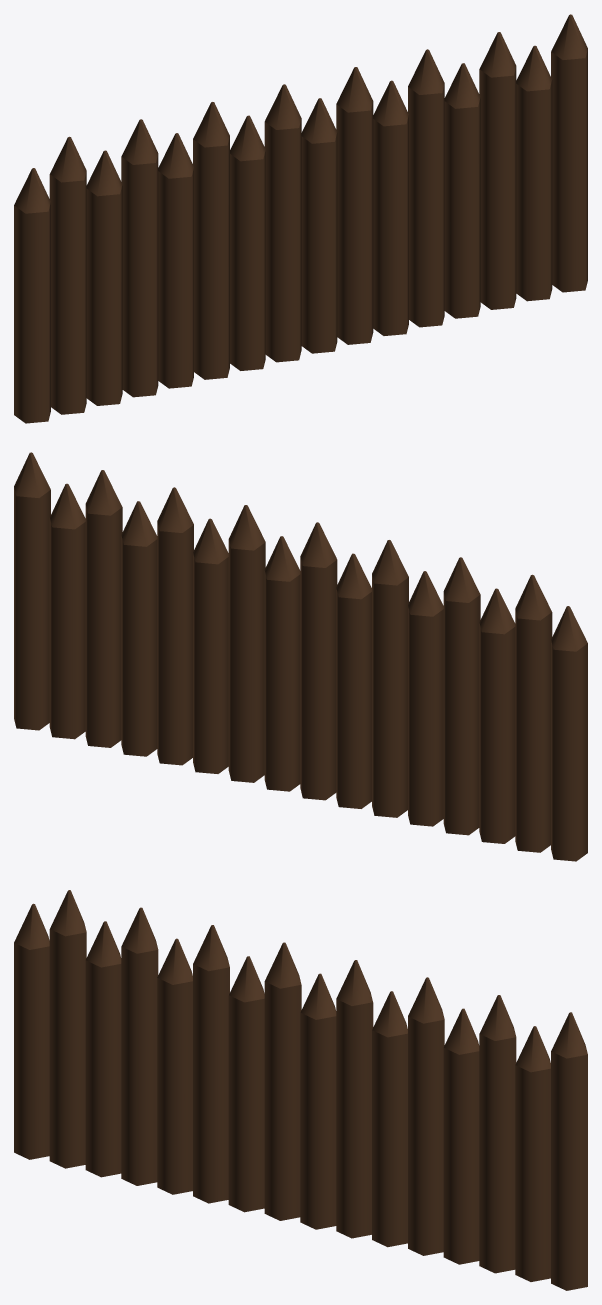
Rendered from bld_special_wall_a01_lod1.glb.
3 renders of one model, top to bottom at view 1: azimuth 30°, elevation 25°; view 2: azimuth 150°, elevation 25°; view 3: azimuth 330°, elevation 25°, orthographic.
Parts seen in each view (by area): view 1: body; view 2: body; view 3: body.
Boxes of the visible parts, x1,y1,x2,y2 form: body: (14, 14, 587, 423); body: (14, 452, 587, 861); body: (14, 890, 587, 1290).
Size of the model in its own units: 7.93 by 3.6 by 0.4565.
